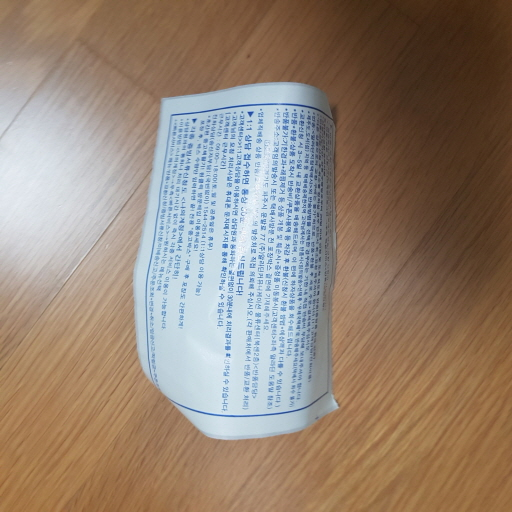Paper_2: (139, 80, 348, 446)
